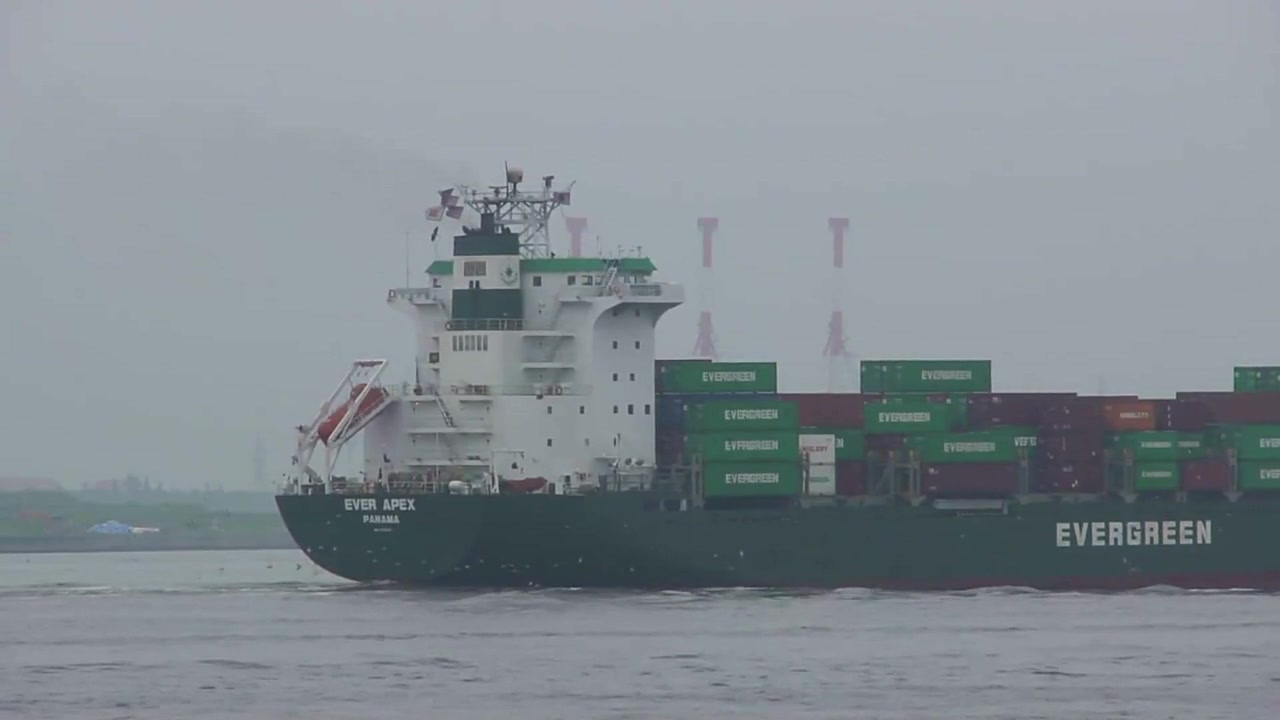boat: (273, 160, 1280, 598)
